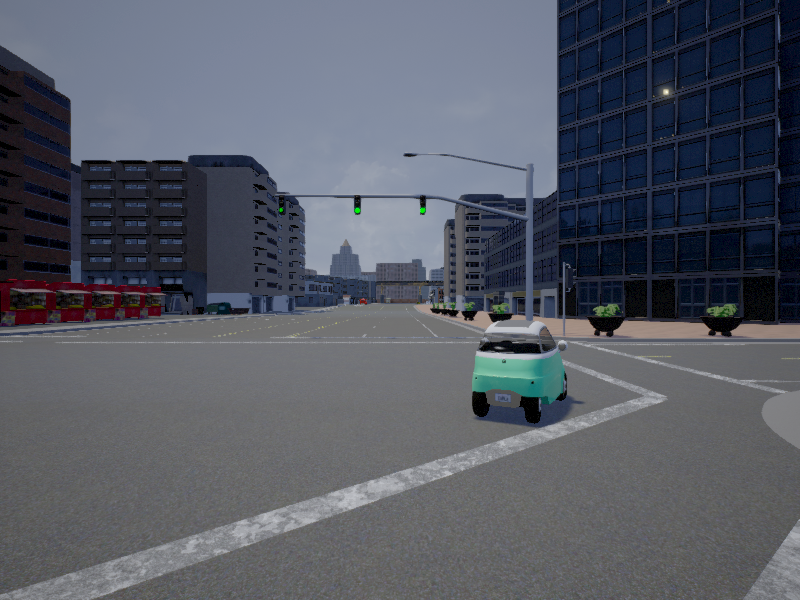Benign: (471, 319, 571, 421)
